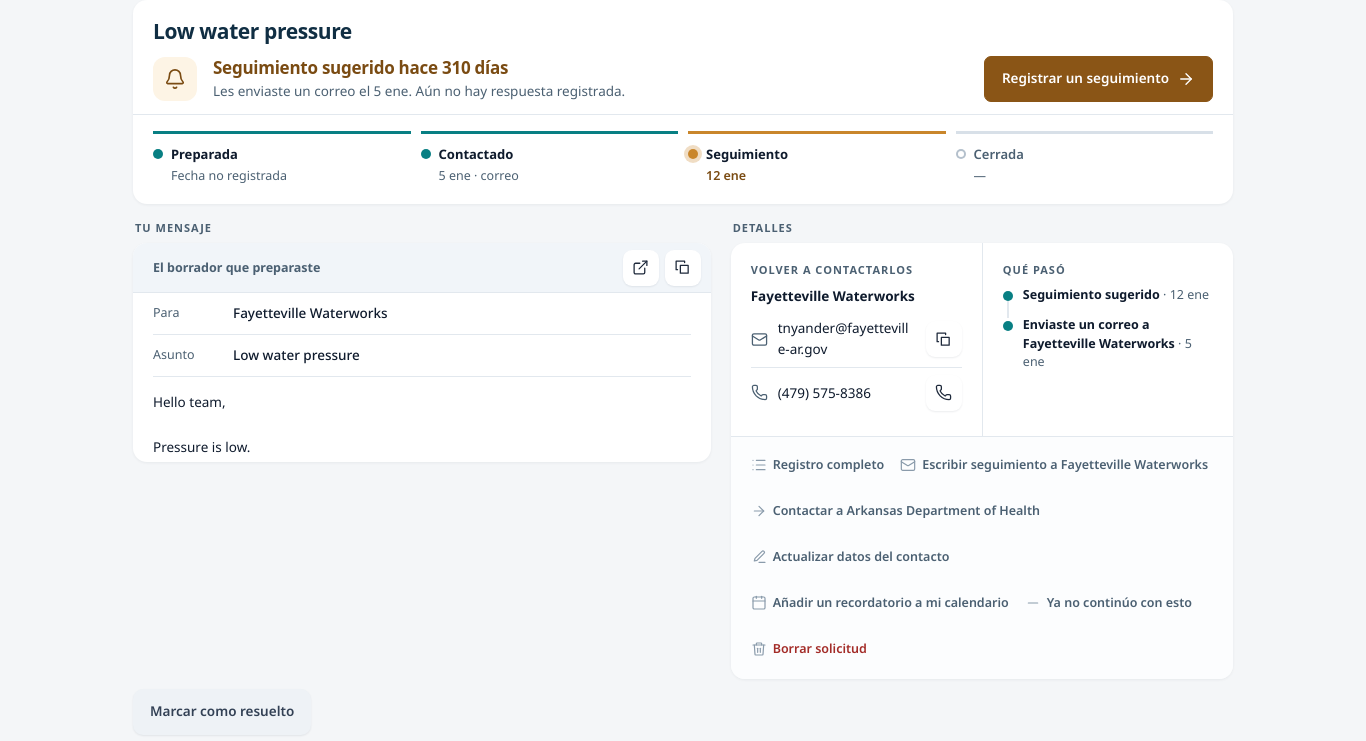
Test: History follow-up › records a reply note on the request
The image size is (1366, 741).
Click the button "Registrar un seguimiento" at (1098, 79), box [984,56,1213,102]
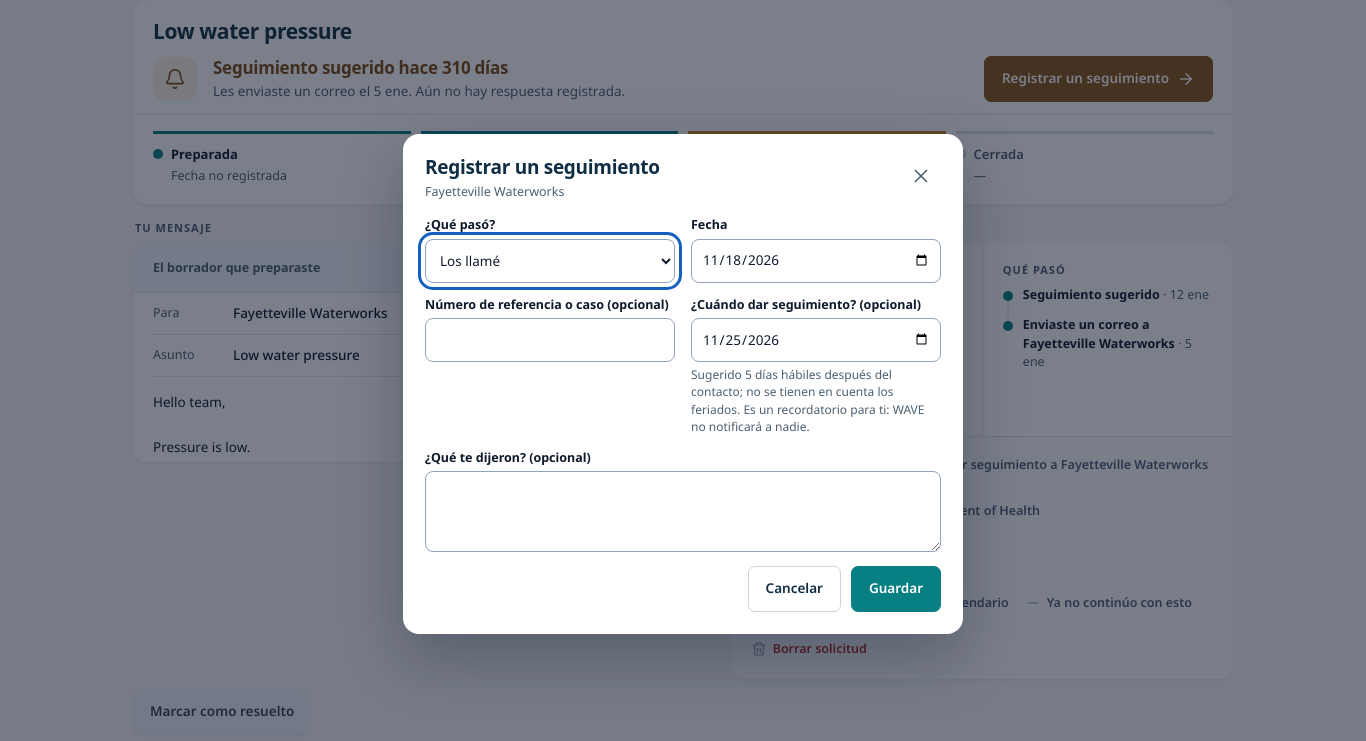
Select "Les envié un correo o mensaje" in the dropdown labelled "¿Qué pasó?" at (550, 261), box [425,239,675,283]
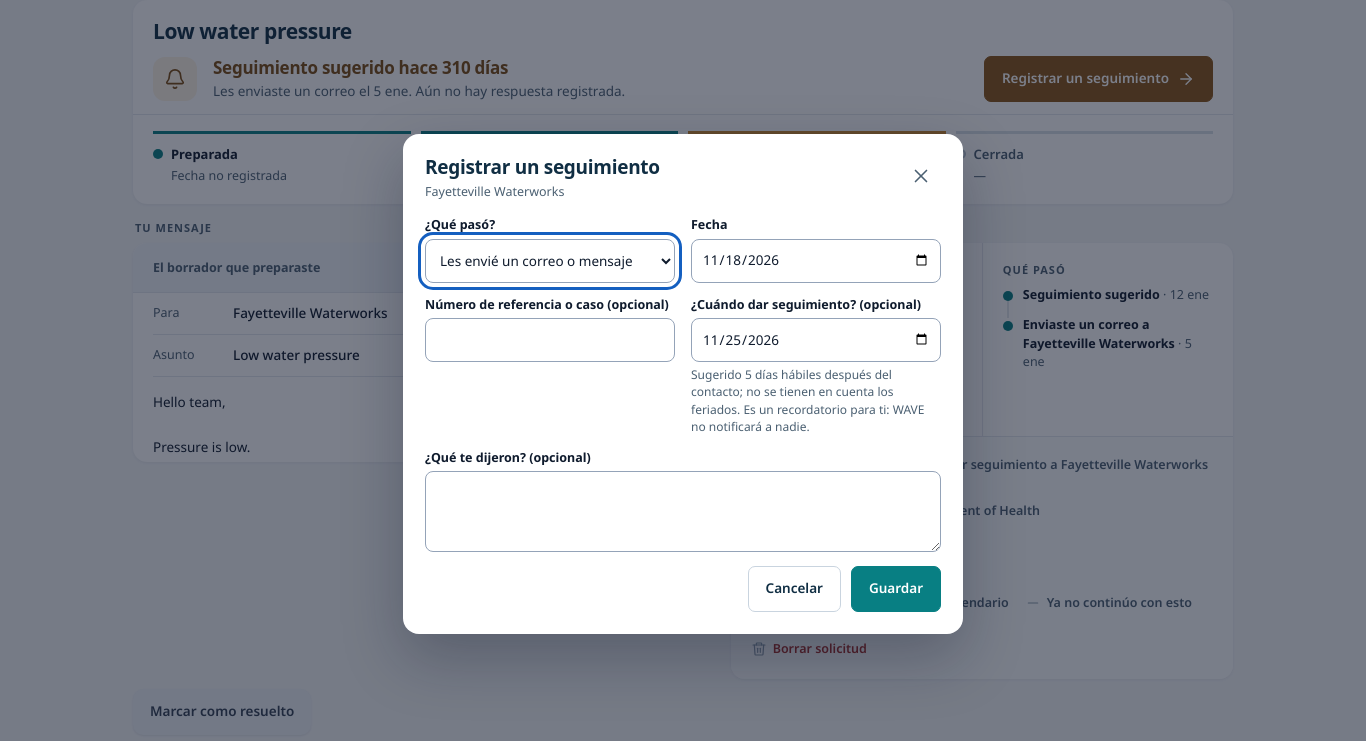
Type "Dijeron que vendrán el lunes" into the text box labelled "¿Qué te dijeron? (opcional)" at (683, 511), box [425,471,941,552]
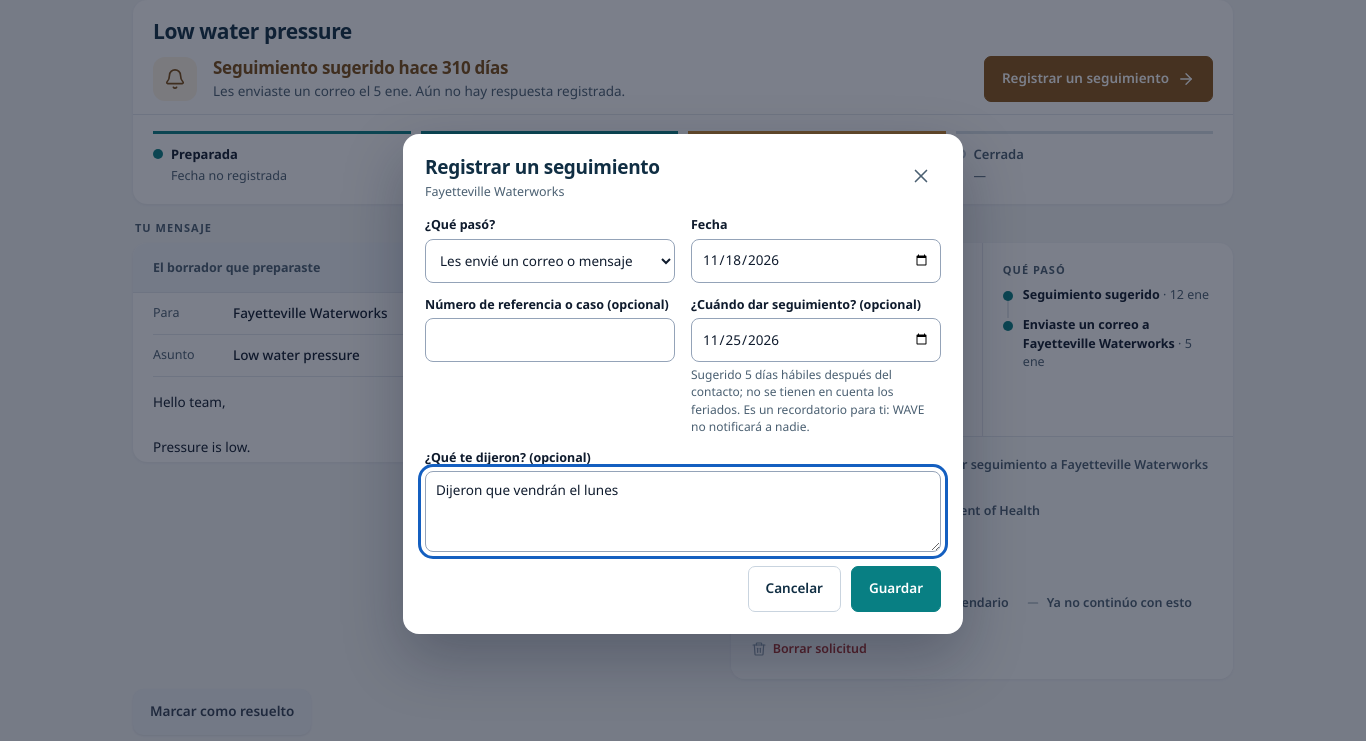
Click the button "Guardar" at (896, 589), box [851,566,941,612]
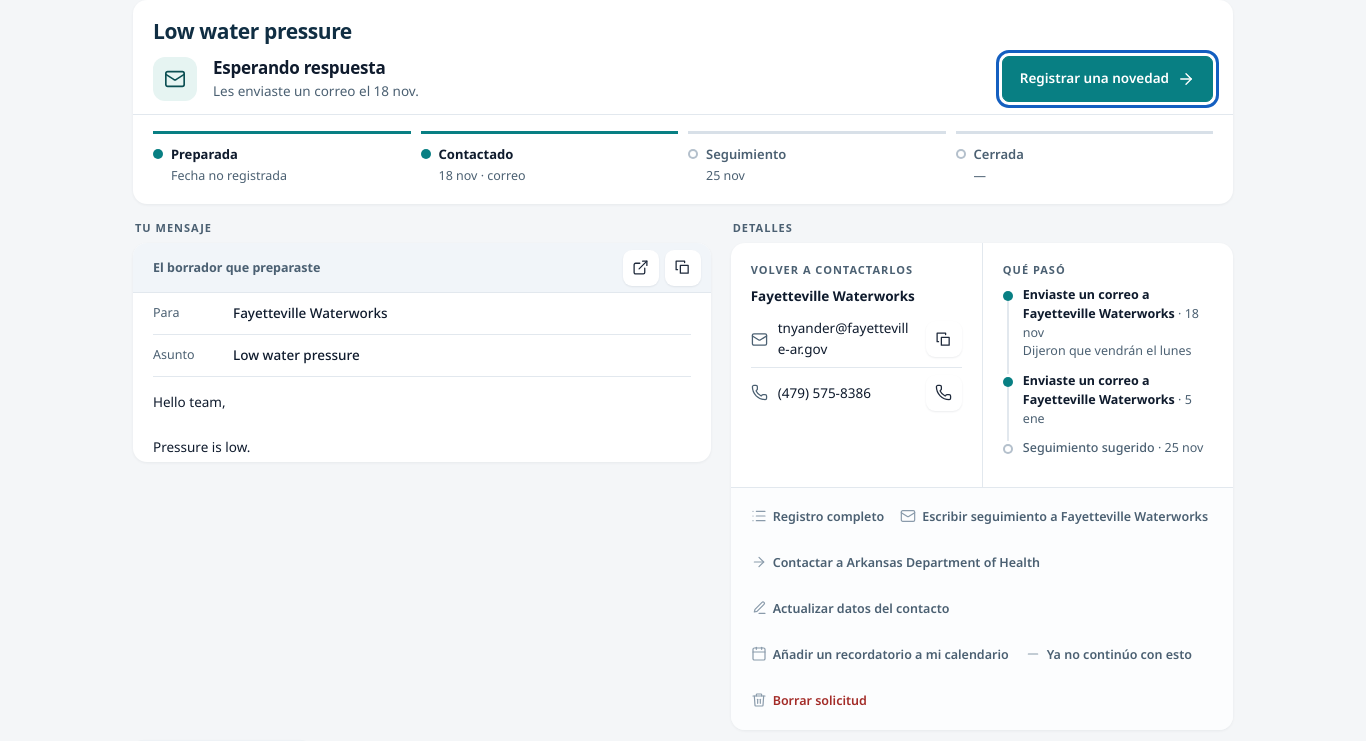
expect the text "Dijeron que vendrán el lunes" is shown: met, box [1023,342,1213,361]
